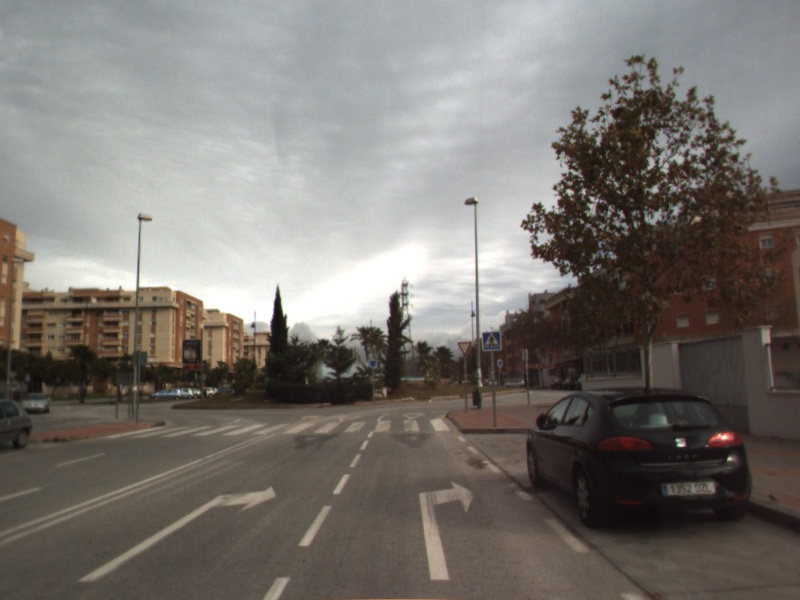RIGHT: (75, 484, 278, 584), (417, 478, 477, 582)
